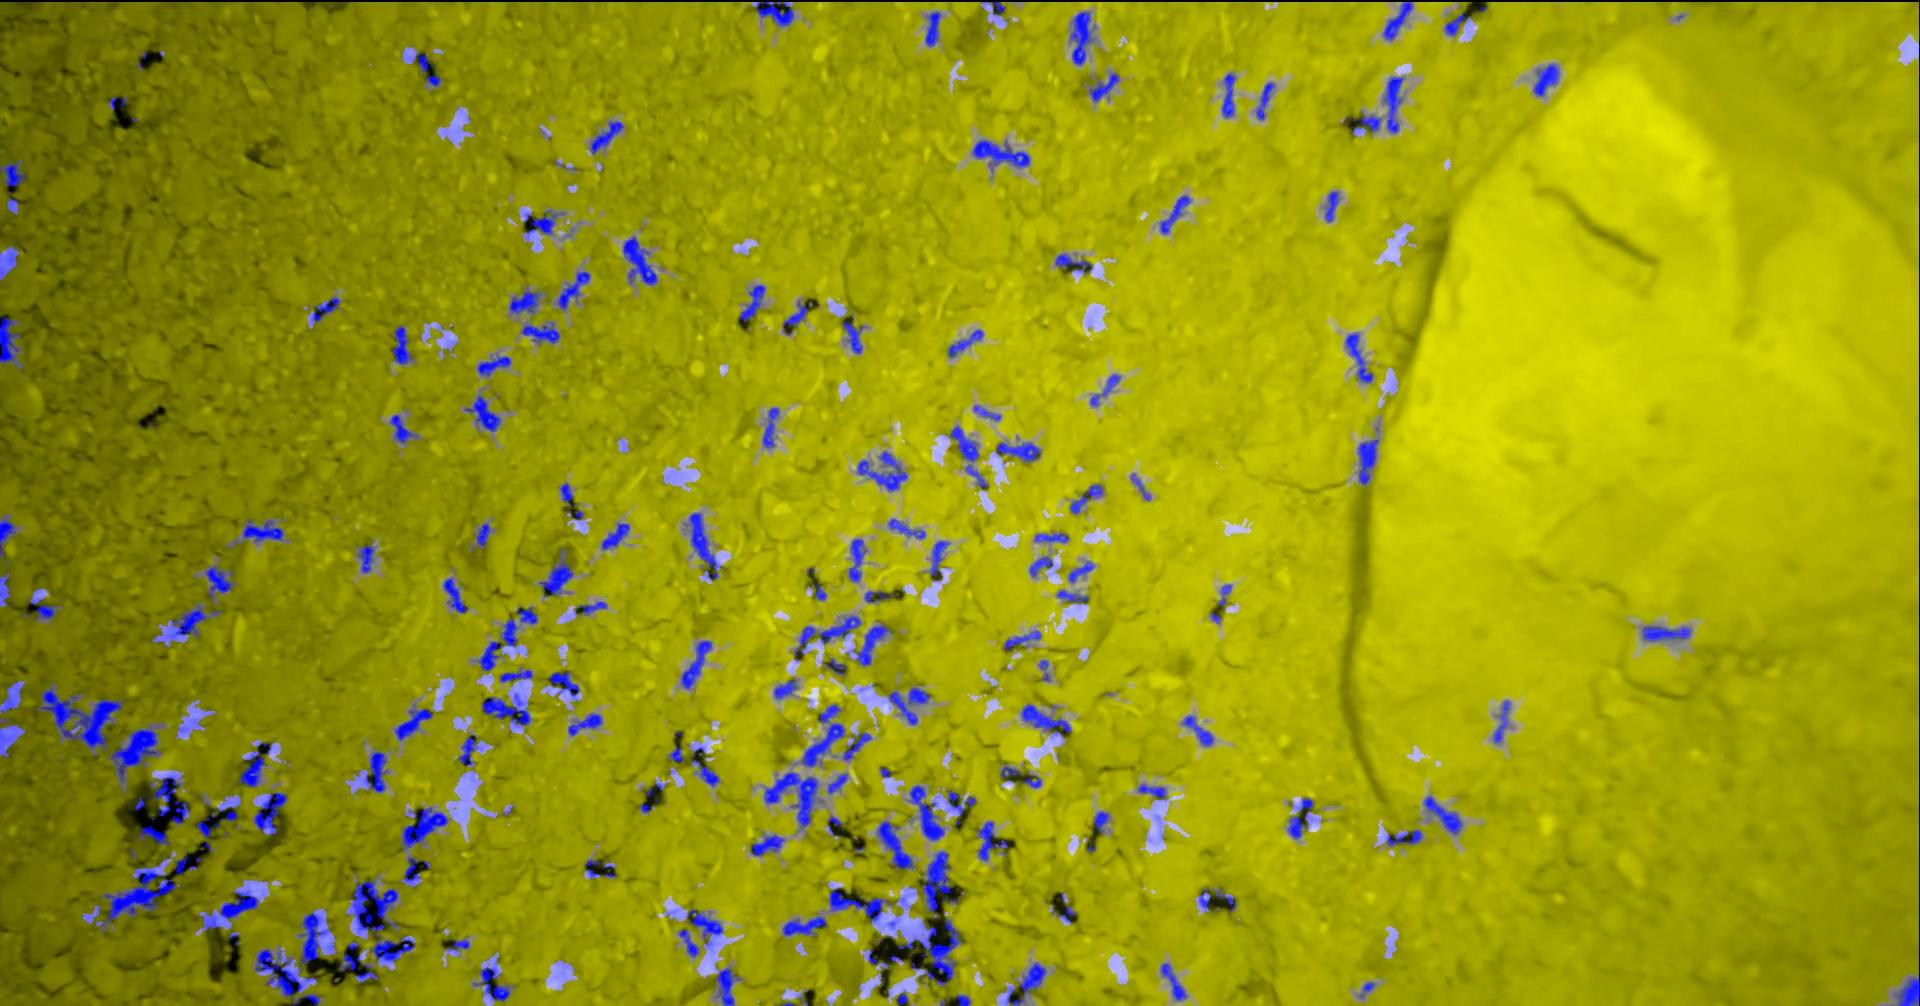ant: (899, 918, 964, 984), (796, 615, 862, 661), (951, 426, 989, 489), (688, 512, 723, 580), (830, 887, 893, 922), (924, 851, 961, 911), (477, 617, 519, 669), (403, 807, 450, 850), (858, 451, 909, 490), (151, 775, 190, 824), (910, 785, 946, 840), (1, 680, 25, 757), (803, 723, 846, 766), (168, 603, 223, 636), (877, 821, 916, 869), (198, 807, 239, 851), (298, 912, 331, 965), (623, 236, 658, 285), (541, 547, 575, 596), (1010, 962, 1048, 1005), (974, 138, 1031, 166), (483, 694, 532, 725), (239, 742, 273, 788), (890, 687, 932, 724), (1023, 704, 1072, 735), (682, 640, 712, 688), (1425, 795, 1463, 833), (255, 793, 290, 835), (396, 704, 434, 741), (858, 624, 893, 664), (1347, 333, 1374, 382), (465, 395, 502, 431), (1, 316, 25, 370), (688, 909, 724, 945), (474, 967, 510, 1001), (557, 271, 590, 309), (1070, 11, 1095, 64), (979, 821, 1010, 860), (220, 890, 260, 920), (1385, 0, 1415, 39), (1161, 196, 1191, 232), (693, 747, 721, 786), (1385, 76, 1404, 132), (1289, 796, 1314, 838), (592, 121, 625, 152), (949, 329, 985, 357), (783, 301, 814, 334), (1091, 373, 1121, 406), (206, 565, 235, 600), (756, 0, 795, 25), (1162, 963, 1189, 1000), (524, 210, 565, 234), (1183, 715, 1215, 746), (1070, 484, 1103, 513), (1359, 439, 1380, 484), (366, 751, 389, 793), (740, 285, 766, 321), (717, 967, 742, 1005), (415, 52, 442, 86), (783, 915, 828, 935), (1090, 72, 1120, 102), (444, 577, 469, 614), (244, 520, 284, 541), (391, 414, 420, 443), (394, 325, 415, 365), (997, 442, 1041, 461), (1534, 64, 1559, 97), (850, 539, 869, 580), (569, 713, 603, 735), (844, 732, 872, 760), (312, 295, 342, 321), (523, 323, 561, 343), (889, 518, 927, 539), (1004, 630, 1043, 650), (551, 671, 580, 696), (932, 540, 950, 580), (1644, 625, 1691, 640), (1495, 700, 1511, 743), (603, 523, 631, 549), (510, 290, 541, 312), (752, 835, 786, 855), (1057, 254, 1095, 272), (1, 513, 17, 558), (479, 354, 512, 375), (30, 596, 60, 619), (1258, 83, 1276, 119), (843, 321, 863, 353), (460, 733, 480, 765), (138, 826, 170, 846), (1, 159, 25, 185), (1898, 976, 1920, 1005), (1223, 72, 1237, 117), (764, 406, 780, 447), (585, 859, 617, 878), (1, 246, 19, 279), (949, 790, 965, 826), (1446, 11, 1470, 36), (1388, 829, 1423, 845), (681, 929, 700, 956), (927, 11, 942, 46), (1352, 113, 1382, 131), (1133, 473, 1152, 499), (405, 856, 422, 887), (1070, 561, 1095, 582), (177, 851, 198, 873), (1139, 782, 1167, 799), (775, 680, 799, 699), (1058, 589, 1090, 603), (1217, 889, 1237, 911), (1031, 556, 1054, 575), (201, 912, 223, 931), (356, 963, 378, 982), (1326, 191, 1340, 221), (502, 668, 535, 681), (975, 405, 1002, 420), (359, 545, 375, 572), (913, 962, 936, 979), (866, 589, 897, 602), (829, 774, 850, 793), (820, 704, 842, 721), (340, 953, 362, 970), (579, 601, 608, 614), (561, 481, 577, 506), (1036, 532, 1070, 542), (1, 572, 11, 606), (1095, 810, 1110, 833), (518, 606, 538, 622), (827, 658, 847, 674), (1002, 765, 1022, 781), (477, 523, 491, 546), (1059, 904, 1077, 922), (1219, 584, 1233, 606), (447, 939, 471, 950), (810, 583, 827, 600), (110, 97, 130, 111), (670, 743, 684, 762), (1023, 774, 1043, 788), (829, 815, 843, 835), (989, 0, 1006, 14), (1201, 888, 1211, 909), (8, 197, 20, 213), (1041, 659, 1051, 680), (898, 992, 909, 1005), (957, 995, 971, 1005)
